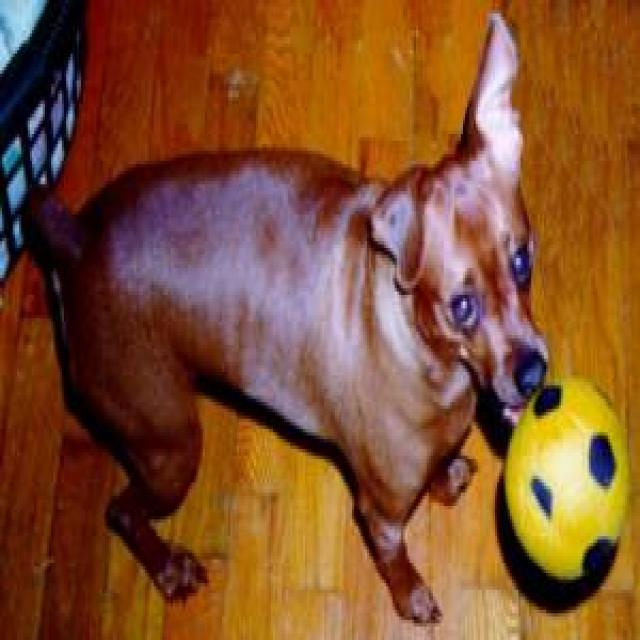dog-miniature_pinscher: (28, 3, 553, 630)
